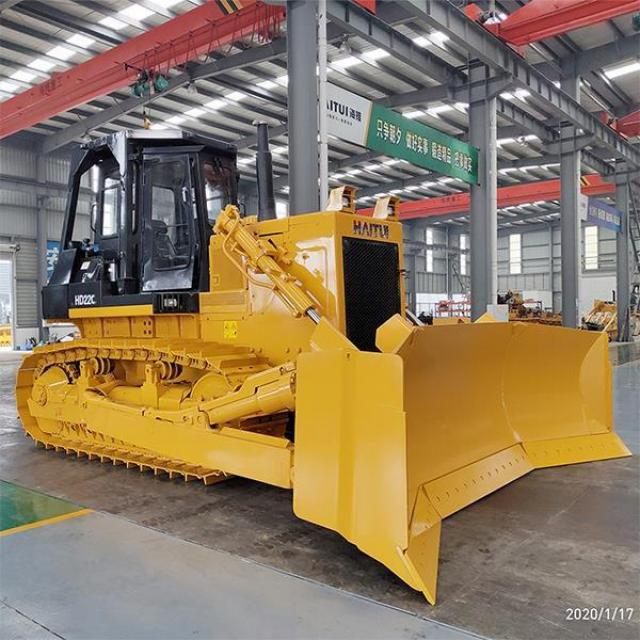Bulldozer: (12, 125, 639, 606)
